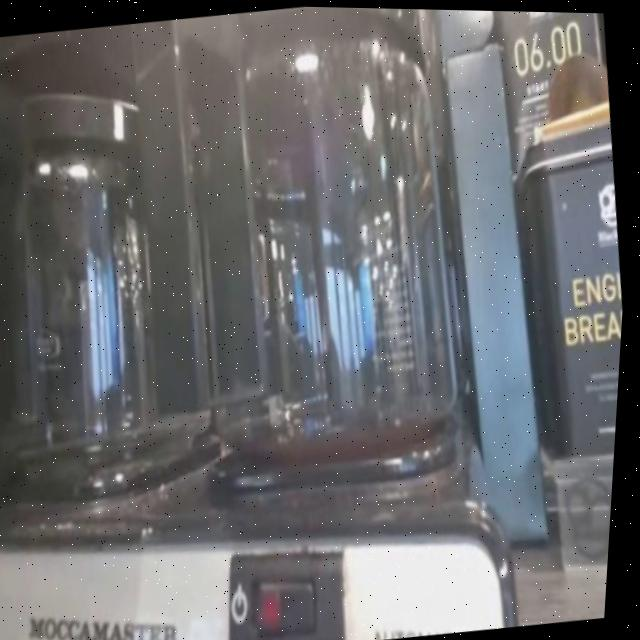nocoffee: (180, 38, 485, 440), (0, 131, 227, 479)
